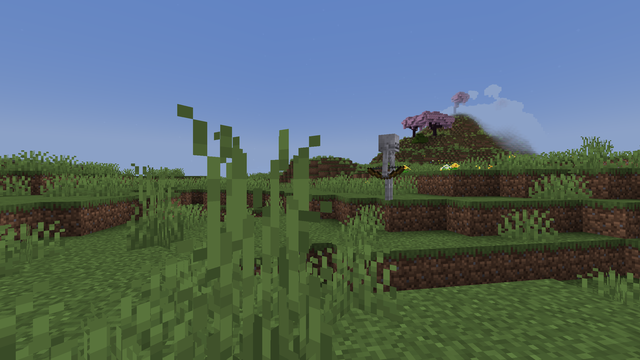squelettes: (376, 133, 402, 199)
